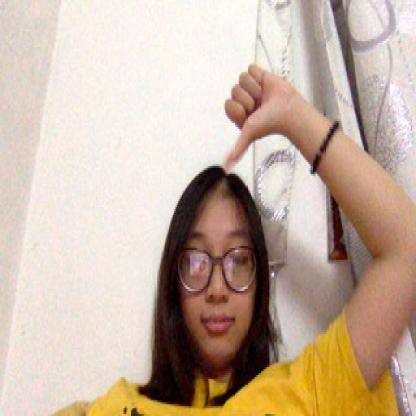right: (221, 49, 302, 187)
